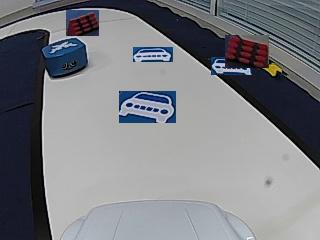spy: (51, 41, 77, 54)
